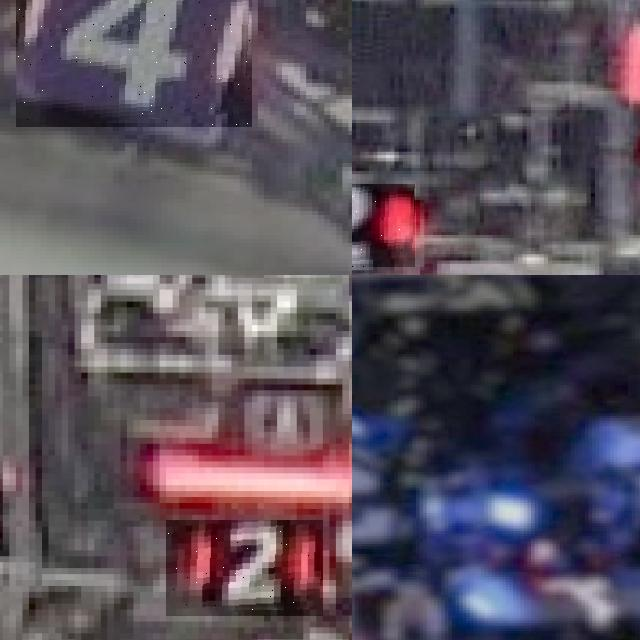R2: (166, 520, 323, 616), (352, 184, 415, 267)
R4: (16, 0, 251, 127)
